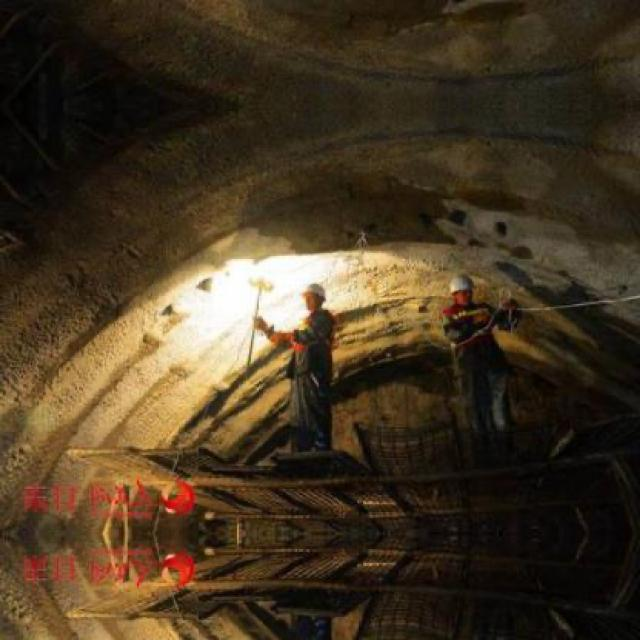helmet: (448, 273, 477, 310), (303, 279, 328, 313)
